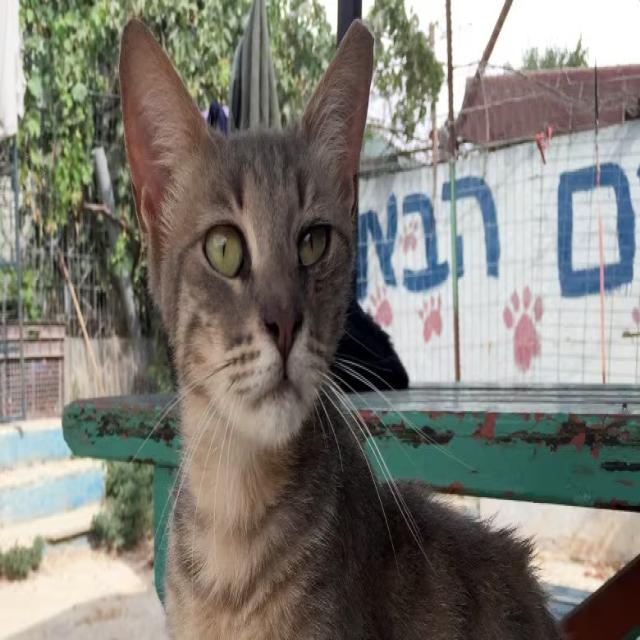cat: (120, 20, 556, 636)
